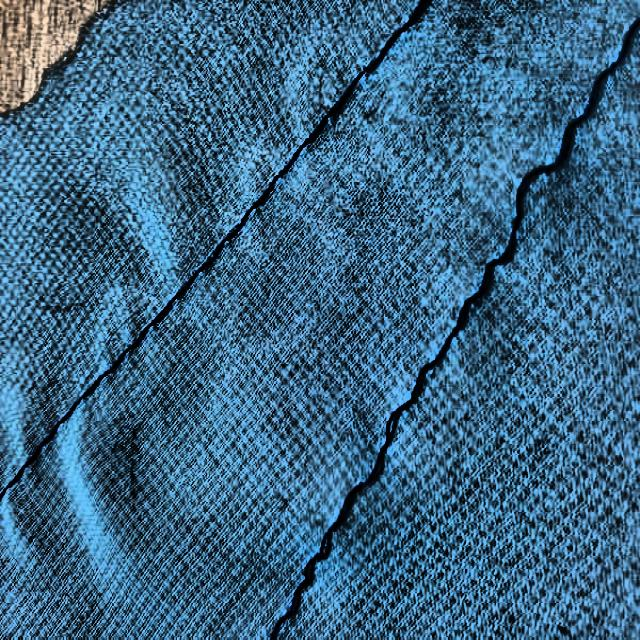Stitch: (486, 124, 584, 287), (346, 384, 440, 496)
